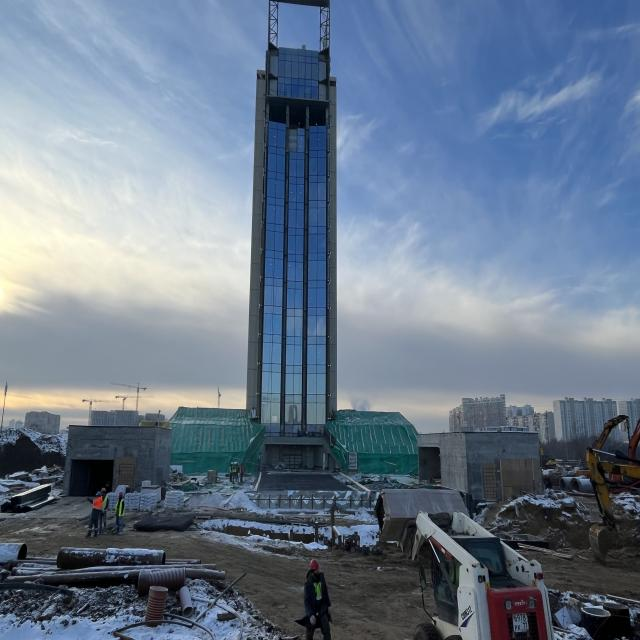Helmet: (311, 561, 320, 572), (97, 493, 103, 497), (102, 489, 107, 493), (119, 493, 124, 497), (235, 463, 237, 465), (233, 463, 235, 465), (237, 463, 238, 465)
Jacket: (314, 581, 324, 605), (117, 500, 126, 517), (94, 498, 103, 512), (104, 496, 108, 511), (233, 467, 237, 473), (241, 467, 244, 474), (231, 468, 233, 474)
